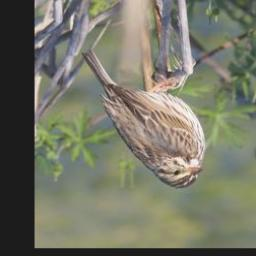Sparrow: (81, 48, 207, 190)
